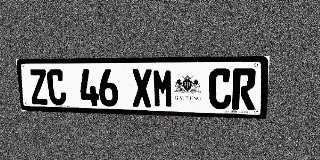4: (78, 69, 99, 106)
6: (98, 69, 119, 106)
C: (209, 68, 232, 109), (46, 69, 67, 105)
M: (152, 69, 174, 108)
R: (232, 68, 257, 110)
X: (131, 69, 153, 107)
Z: (28, 69, 49, 105)
